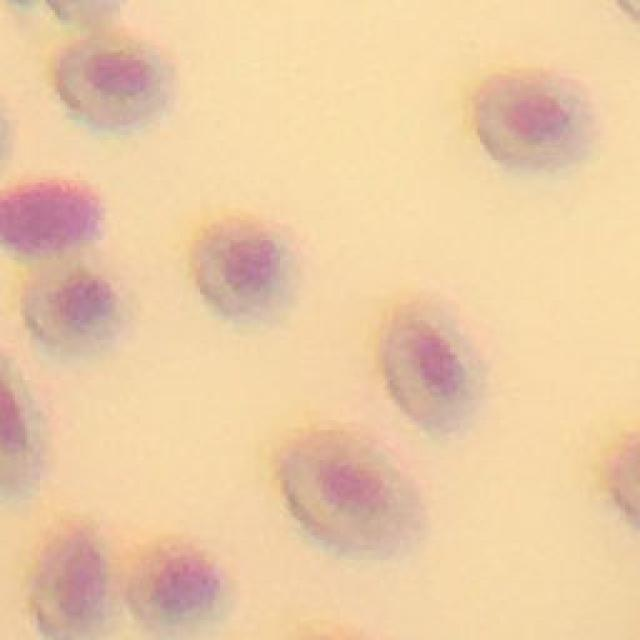RBC: (282, 430, 422, 555), (385, 300, 485, 434), (478, 71, 600, 172), (22, 252, 132, 360), (55, 36, 174, 128), (195, 220, 298, 324), (35, 522, 112, 640), (0, 182, 102, 254), (130, 545, 222, 624)
